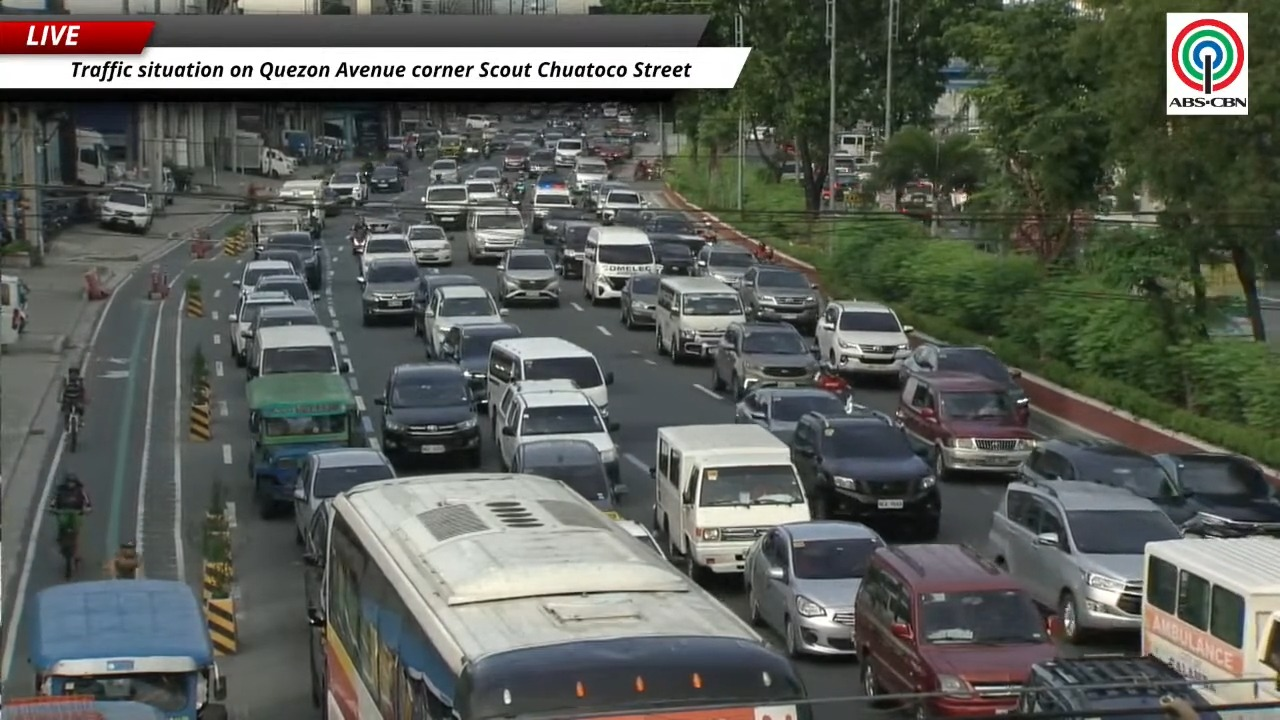bus: (307, 473, 810, 719), (1141, 537, 1279, 719)
car: (854, 544, 1056, 717), (985, 480, 1181, 642), (788, 412, 941, 540), (743, 520, 884, 656), (1017, 438, 1199, 525), (896, 373, 1038, 480), (491, 381, 619, 484), (1016, 655, 1211, 718), (375, 361, 481, 467), (1154, 452, 1279, 536), (294, 448, 395, 544), (511, 439, 625, 518), (711, 322, 819, 399), (899, 342, 1028, 404), (815, 300, 913, 375), (440, 323, 521, 408), (422, 285, 507, 358), (735, 387, 852, 440), (739, 265, 820, 334), (227, 291, 294, 366), (243, 304, 322, 357), (413, 274, 479, 336), (361, 258, 419, 325), (258, 232, 323, 290), (495, 249, 560, 305), (303, 503, 330, 613), (694, 243, 757, 288), (554, 220, 597, 278), (359, 234, 415, 276), (233, 260, 296, 295), (620, 273, 660, 328), (615, 519, 666, 558), (541, 206, 592, 244), (405, 225, 452, 265), (597, 186, 647, 223), (255, 275, 314, 305), (532, 188, 573, 231), (650, 234, 694, 274), (642, 212, 699, 237), (573, 155, 610, 192), (256, 248, 304, 275), (586, 181, 629, 211), (329, 172, 367, 205), (464, 177, 502, 204), (368, 165, 403, 192), (526, 149, 555, 177), (502, 143, 529, 171), (428, 159, 459, 182), (609, 209, 644, 228), (470, 165, 502, 183)
truck: (27, 579, 226, 719), (247, 372, 363, 516), (227, 131, 297, 177), (75, 127, 111, 186), (281, 129, 312, 158)
